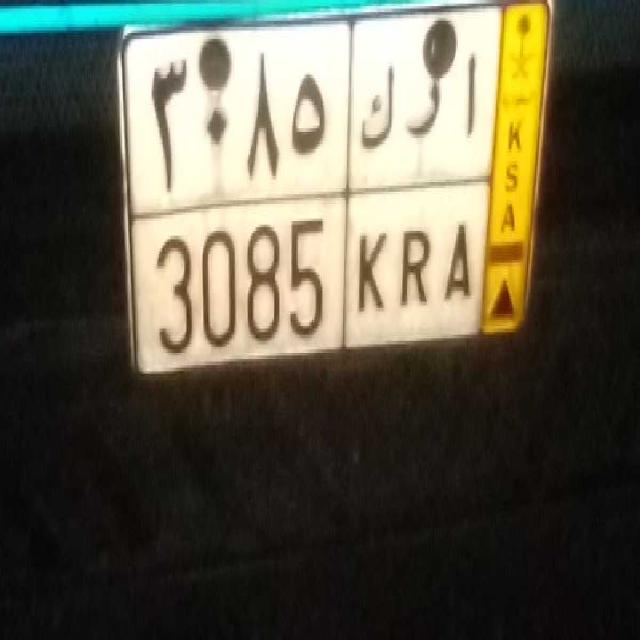license_plate: (139, 190, 487, 366)
